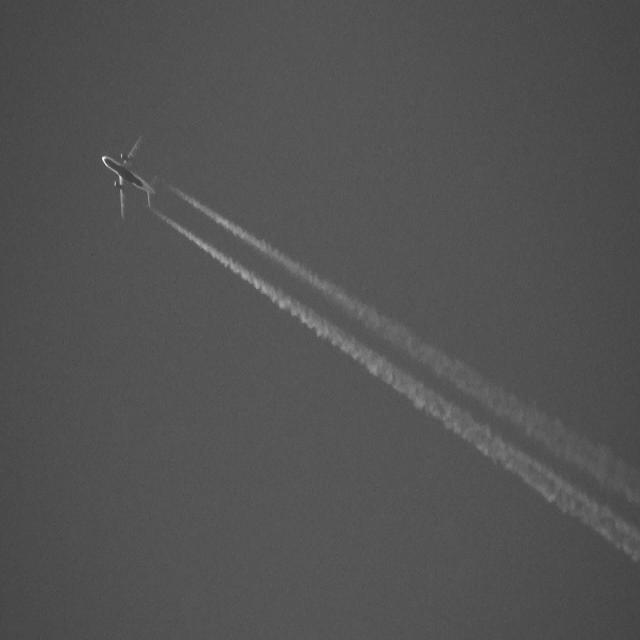aeroplane: (100, 134, 160, 218)
